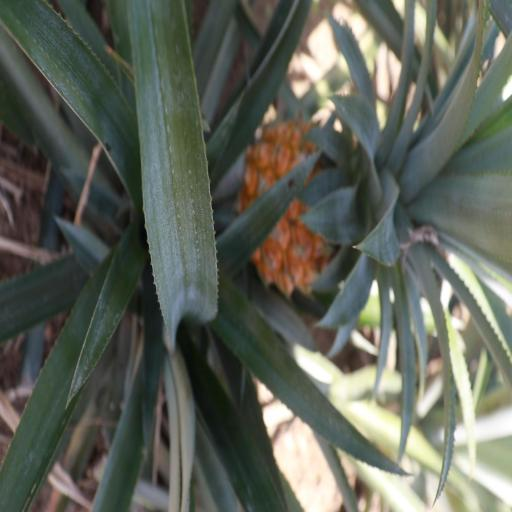Pineapple - v8 v1: (241, 116, 512, 310)
